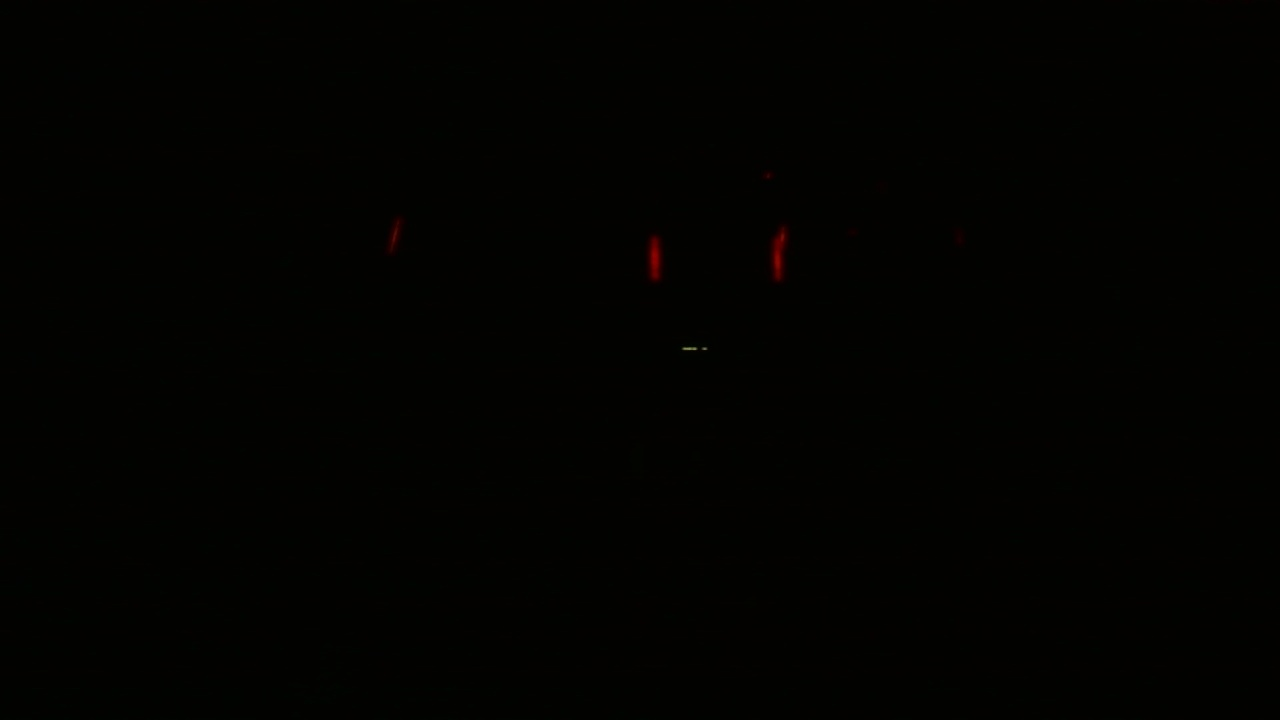pair1: (637, 228, 795, 282)
